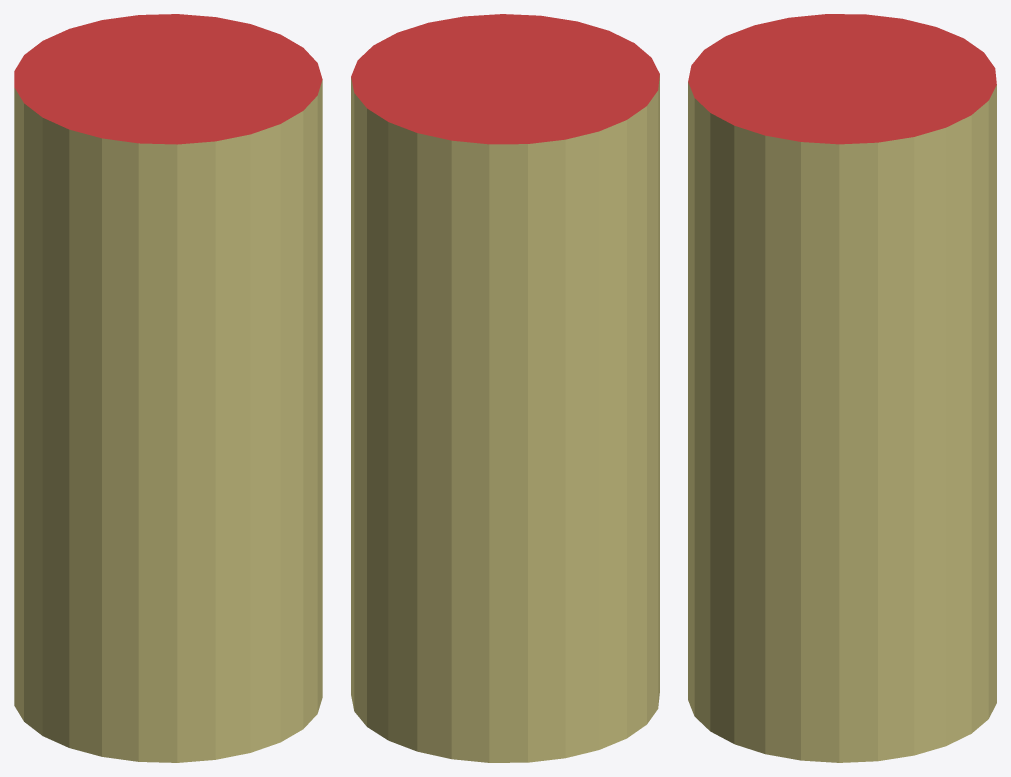
3 renders of one model, left to right at view 1: azimuth 30°, elevation 25°; view 2: azimuth 150°, elevation 25°; view 3: azimuth 270°, elevation 25°, orthographic.
Size of the model in its own units: 5.36 by 5.37 by 11.87.
